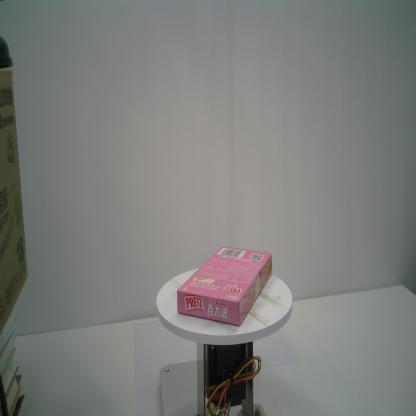Dessert: (176, 245, 274, 326)
